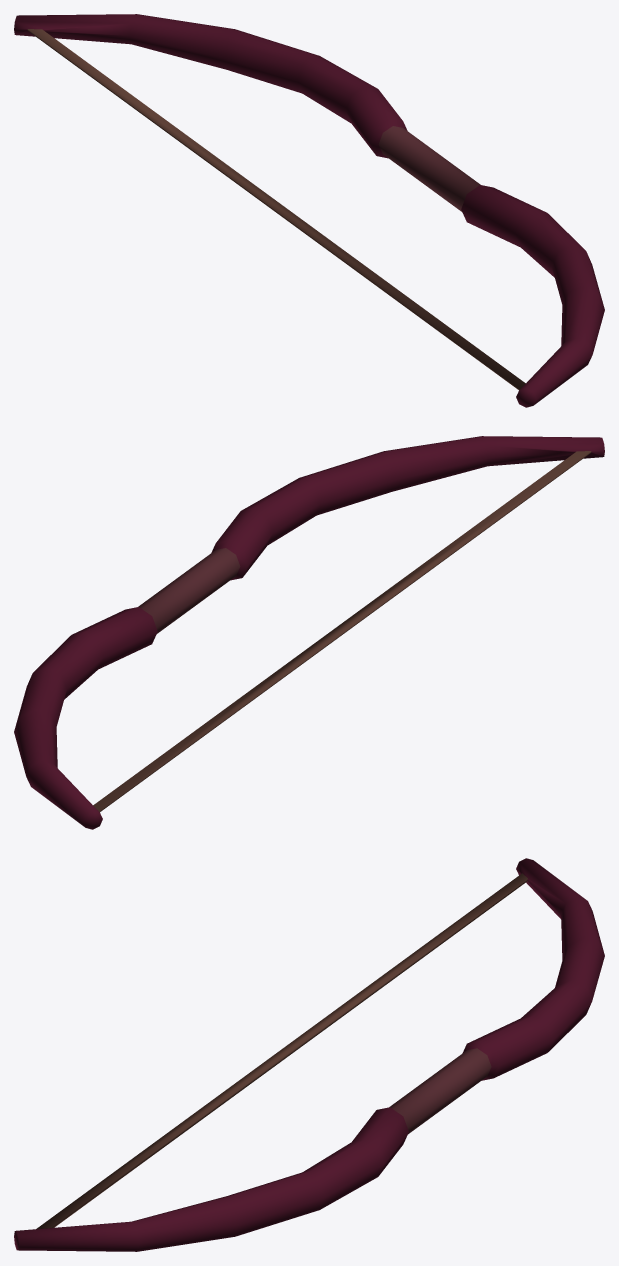
Rendered from WeaponBowRecurve.dae.
3 renders of one model, top to bottom at view 1: azimuth 30°, elevation 25°; view 2: azimuth 150°, elevation 25°; view 3: azimuth 330°, elevation 25°, orthographic.
Visible parts, largest first — view 1: BowRecurve; view 2: BowRecurve; view 3: BowRecurve.
Part boxes in pixels (box(x1,y1,x2,y2)): BowRecurve: box(14, 14, 604, 407); BowRecurve: box(14, 436, 604, 829); BowRecurve: box(14, 858, 604, 1251).
Size of the model in its own units: 0.2903 by 1.28 by 0.0545.
